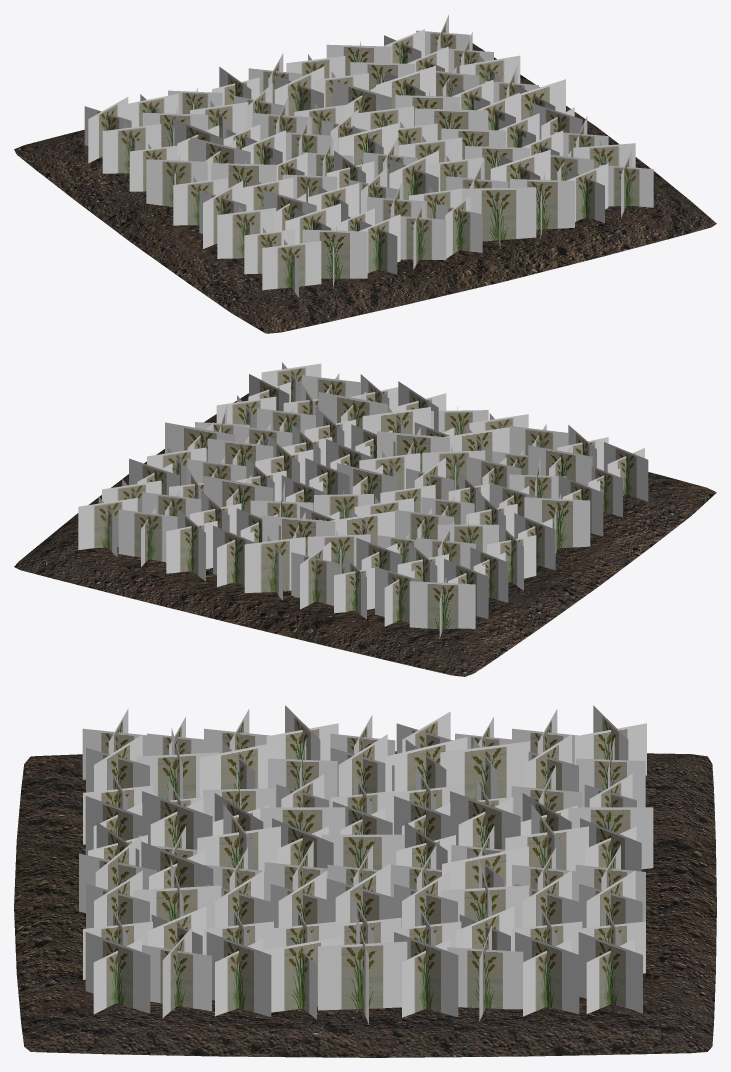
File: prop5.glb
3 renders of one model, top to bottom at view 1: azimuth 30°, elevation 25°; view 2: azimuth 150°, elevation 25°; view 3: azimuth 270°, elevation 25°, orthographic. The views are drawn at different scales.
Parts seen in each view (by area): view 1: Object_98; view 2: Object_98; view 3: Object_98.
Part boxes in pixels (bbox=[...]): Object_98: bbox=[14, 14, 716, 333]; Object_98: bbox=[14, 362, 716, 676]; Object_98: bbox=[14, 705, 716, 1057].
Size of the model in its own units: 4.17 by 0.5824 by 4.04.
2 materials, 2 textured.
